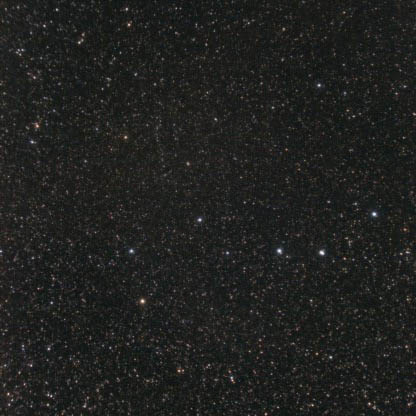Ursa Major: (310, 239, 336, 266), (364, 201, 384, 232), (215, 245, 237, 270), (119, 237, 139, 263), (129, 288, 150, 311), (190, 209, 211, 231), (269, 240, 290, 262)
